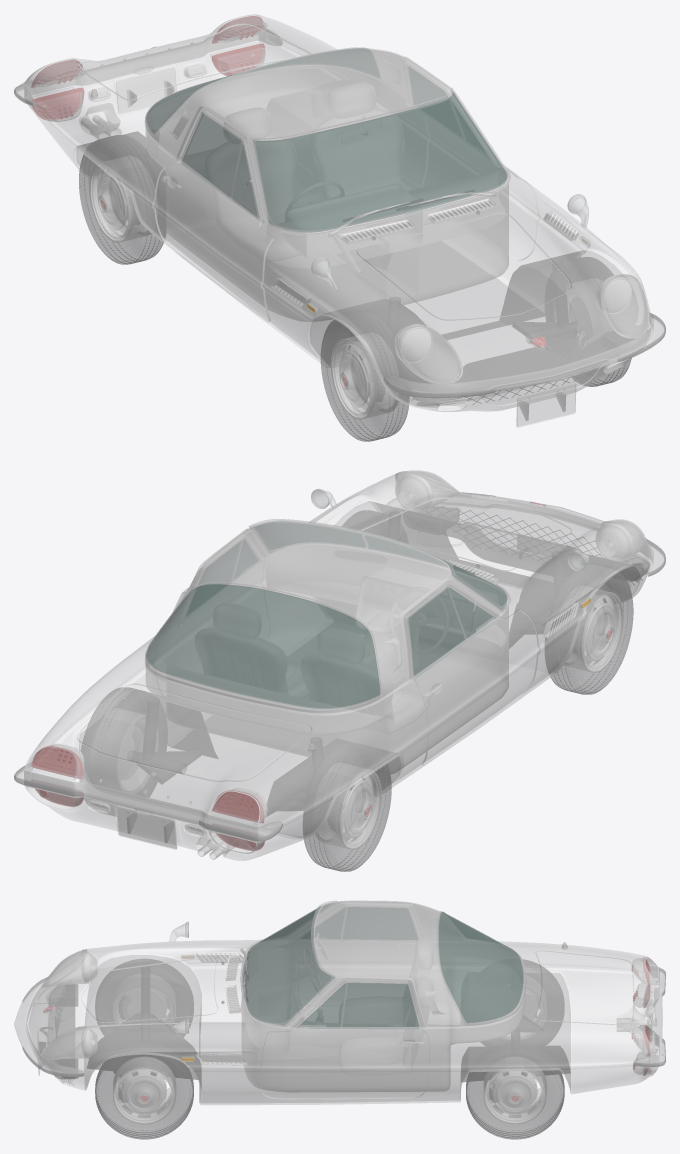
The model's file is MAZDA COSMO DEL 1967.glb.
The picture shows the model from 3 angles, top to bottom: view 1: azimuth 30°, elevation 25°; view 2: azimuth 150°, elevation 25°; view 3: azimuth 270°, elevation 25°; orthographic projection. The views are drawn at different scales.
Parts seen in each view (by area): view 1: Body01, Interior01, Glass_main_front01, Antene_black01, Mirror_interior_main01, Light01_rear_stroke01, Air_intake_side_shape01, Tire_front_left01, Blinker_side_packer01, Rim_front_left_part_main02, Break_support_front_left_wheel02, glass01 (+3 smaller); view 2: Body01, Interior01, Antene_black01, Glass_main_front01, Mirror_interior_main01, Light01_rear_stroke01, Tire_front_left01, Air_intake_side_shape01, Blinker_side_packer01, Break_support_front_left_wheel02, Rim_front_left_part_main02, Light01_rear_glass01 (+3 smaller); view 3: Body01, Interior01, Antene_black01, Glass_main_front01, Tire_front_left01, Mirror_interior_main01, Light01_rear_stroke01, Air_intake_side_shape01, Rim_front_left_part_main02, Blinker_side_packer01, Break_disk_front_left_wheel02, Break_support_front_left_wheel02 (+2 smaller).
Part boxes in pixels (x1=…): Body01: x1=24, y1=14, x2=651, y2=411; Interior01: x1=145, y1=48, x2=508, y2=321; Glass_main_front01: x1=146, y1=48, x2=506, y2=232; Antene_black01: x1=14, y1=81, x2=665, y2=420; Mirror_interior_main01: x1=205, y1=82, x2=499, y2=275; Light01_rear_stroke01: x1=27, y1=48, x2=508, y2=235; Air_intake_side_shape01: x1=14, y1=29, x2=665, y2=401; Tire_front_left01: x1=79, y1=135, x2=631, y2=441; Blinker_side_packer01: x1=28, y1=16, x2=649, y2=402; Rim_front_left_part_main02: x1=89, y1=162, x2=594, y2=419; Break_support_front_left_wheel02: x1=343, y1=203, x2=647, y2=404; glass01: x1=101, y1=70, x2=647, y2=380; Body01: x1=24, y1=472, x2=651, y2=860; Interior01: x1=146, y1=521, x2=508, y2=773; Antene_black01: x1=14, y1=492, x2=665, y2=842; Glass_main_front01: x1=146, y1=521, x2=506, y2=708; Mirror_interior_main01: x1=195, y1=549, x2=499, y2=733; Light01_rear_stroke01: x1=145, y1=520, x2=503, y2=825; Tire_front_left01: x1=79, y1=510, x2=633, y2=871; Air_intake_side_shape01: x1=14, y1=473, x2=664, y2=859; Blinker_side_packer01: x1=27, y1=471, x2=648, y2=853; Break_support_front_left_wheel02: x1=359, y1=502, x2=649, y2=812; Rim_front_left_part_main02: x1=117, y1=589, x2=623, y2=849; Light01_rear_glass01: x1=31, y1=746, x2=264, y2=850; Body01: x1=27, y1=924, x2=659, y2=1104; Interior01: x1=241, y1=901, x2=525, y2=1092; Antene_black01: x1=22, y1=946, x2=665, y2=1102; Glass_main_front01: x1=242, y1=904, x2=523, y2=1028; Tire_front_left01: x1=95, y1=959, x2=564, y2=1139; Mirror_interior_main01: x1=247, y1=938, x2=433, y2=1075; Light01_rear_stroke01: x1=249, y1=900, x2=658, y2=1028; Air_intake_side_shape01: x1=14, y1=914, x2=665, y2=1111; Rim_front_left_part_main02: x1=113, y1=979, x2=546, y2=1123; Blinker_side_packer01: x1=39, y1=901, x2=658, y2=1102; Break_disk_front_left_wheel02: x1=122, y1=987, x2=537, y2=1110; Break_support_front_left_wheel02: x1=29, y1=972, x2=497, y2=1102.
Size of the model in its own units: 1.56 by 1.13 by 4.06.
